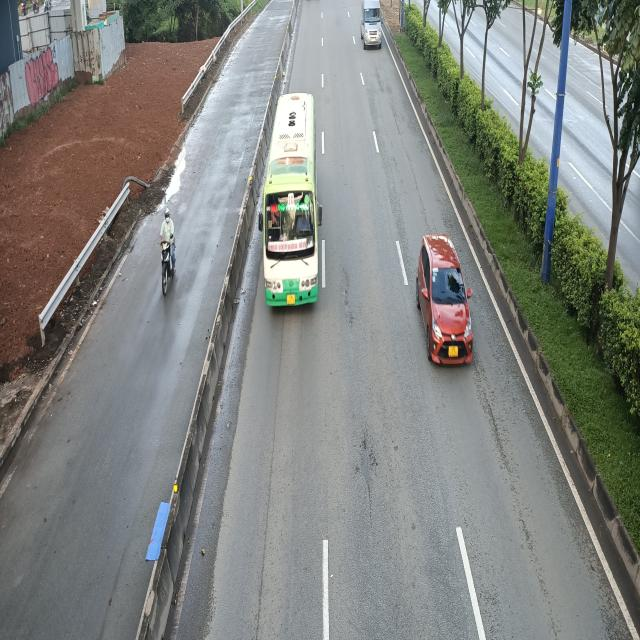car: (415, 233, 472, 367)
coach: (256, 91, 322, 309)
van: (360, 0, 383, 48)
